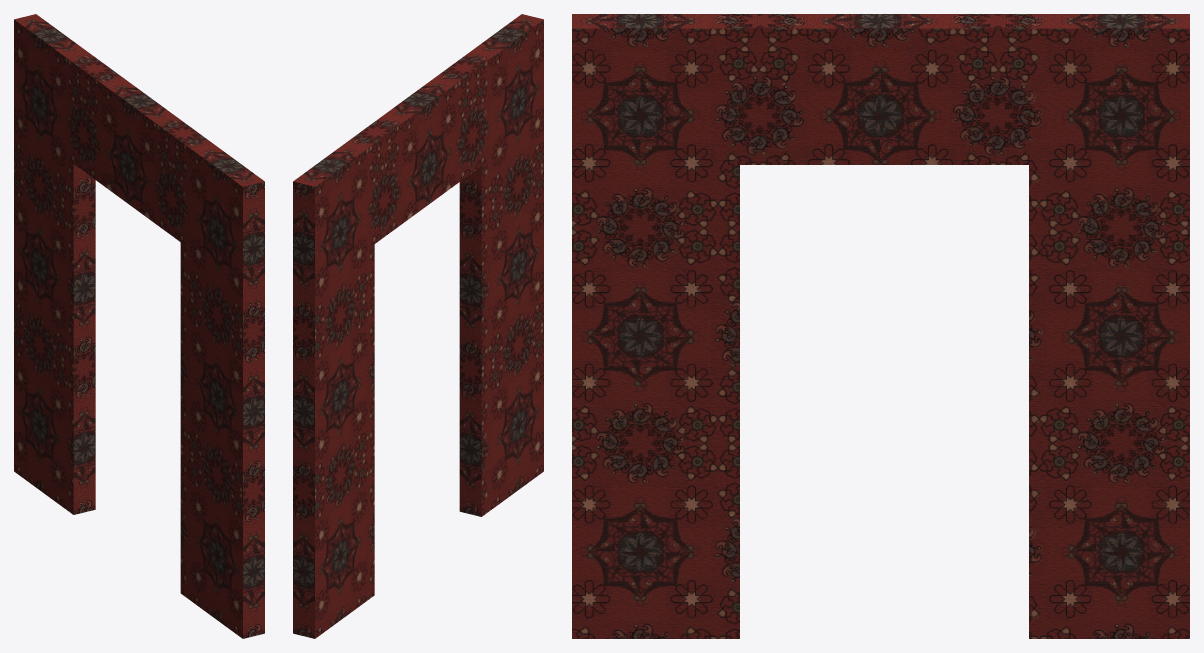
File: soupdoorwall014.glb
The picture shows the model from 3 angles, left to right: view 1: azimuth 30°, elevation 25°; view 2: azimuth 150°, elevation 25°; view 3: azimuth 270°, elevation 25°; orthographic projection. The views are drawn at different scales.
Parts seen in each view (by area): view 1: soupdoorwall014_high_1; view 2: soupdoorwall014_high_1; view 3: soupdoorwall014_high_1.
Boxes of the visible parts, x1,y1,x2,y2 form: soupdoorwall014_high_1: (14,14,264,638); soupdoorwall014_high_1: (293,14,543,638); soupdoorwall014_high_1: (572,14,1189,638).
Size of the model in its own units: 0.1504 by 2.95 by 2.7.
Materials: 1 (1 with a texture image).
